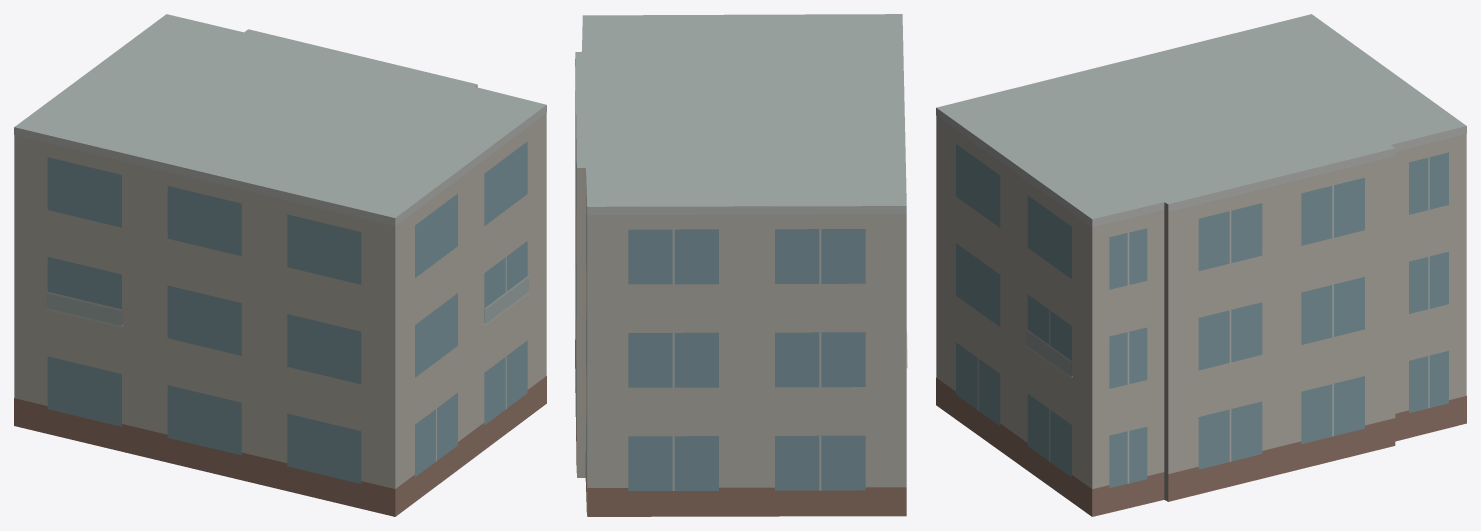
The model's file is survey-upis-32695277.glb.
The picture shows the model from 3 angles, left to right: view 1: azimuth 30°, elevation 25°; view 2: azimuth 150°, elevation 25°; view 3: azimuth 270°, elevation 25°; orthographic projection. The views are drawn at different scales.
Visible parts, largest first — view 1: survey-upis-32695277.tmp; view 2: survey-upis-32695277.tmp; view 3: survey-upis-32695277.tmp.
Part boxes in pixels (left/top/right/bottom): survey-upis-32695277.tmp: left=14, top=14, right=546, bottom=516; survey-upis-32695277.tmp: left=575, top=14, right=907, bottom=516; survey-upis-32695277.tmp: left=936, top=14, right=1466, bottom=516.
Bounding box in the file's own units: 13.55 × 9.15 × 14.8.
